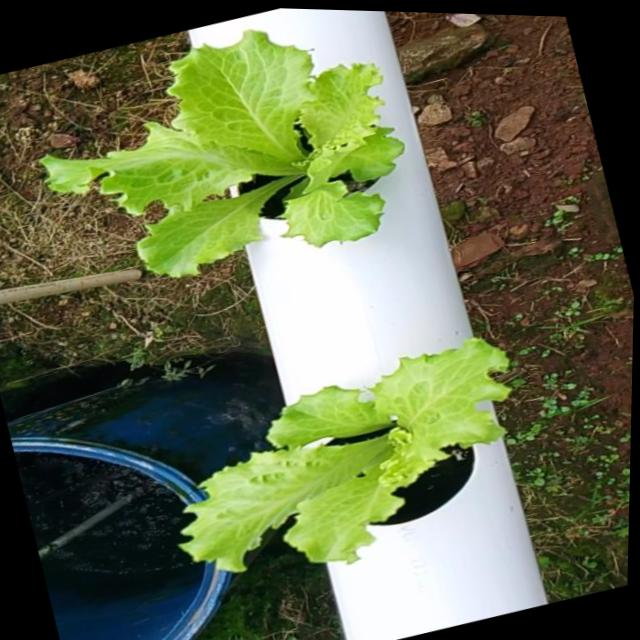Baby: (40, 28, 403, 277), (181, 340, 510, 574)
